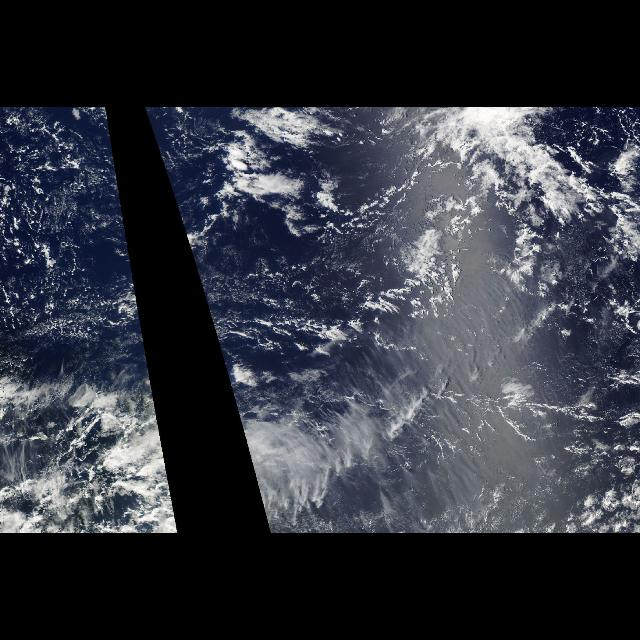Sugar: (4, 109, 136, 299), (144, 110, 202, 286)
